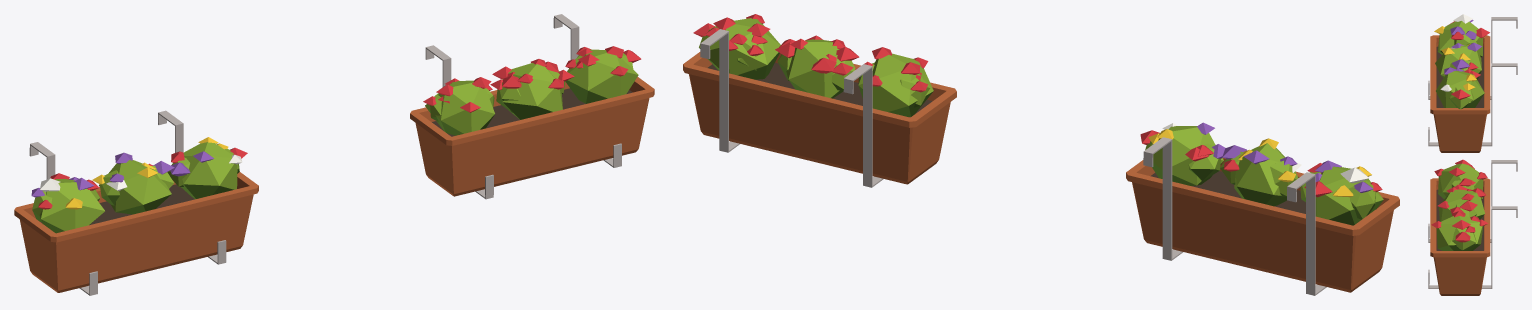
File: SM_Fixture_RailPlanterShort16520_Box_Flower_01.gltf
3 renders of one model, left to right at view 1: azimuth 30°, elevation 25°; view 2: azimuth 150°, elevation 25°; view 3: azimuth 270°, elevation 25°, orthographic. The views are drawn at different scales.
Parts seen in each view (by area): view 1: SM_Fixture_RailPlanterShort16520_Box_Flower_01; view 2: SM_Fixture_RailPlanterShort16520_Box_Flower_01; view 3: SM_Fixture_RailPlanterShort16520_Box_Flower_01.
Boxes of the visible parts, left/top/right/bottom form: SM_Fixture_RailPlanterShort16520_Box_Flower_01: left=14, top=14, right=654, bottom=295; SM_Fixture_RailPlanterShort16520_Box_Flower_01: left=683, top=14, right=1399, bottom=295; SM_Fixture_RailPlanterShort16520_Box_Flower_01: left=1428, top=14, right=1517, bottom=295.
Size of the model in its own units: 1.89 by 0.3225 by 0.3265.
Materials: 1 (1 with a texture image).
